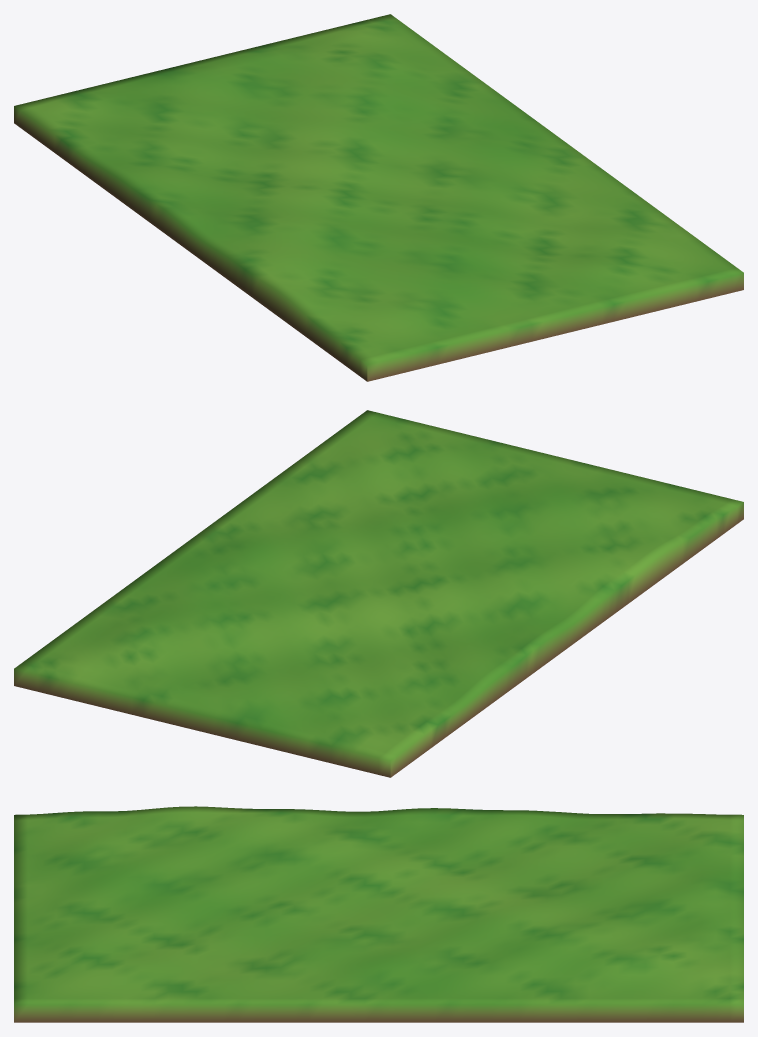
The model's file is ground_tile_b.glb.
3 views of the same model, one above another, from view 1: azimuth 30°, elevation 25°; view 2: azimuth 150°, elevation 25°; view 3: azimuth 270°, elevation 25° (orthographic). The views are drawn at different scales.
Parts seen in each view (by area): view 1: Ground_Tile_B_Surface; view 2: Ground_Tile_B_Surface; view 3: Ground_Tile_B_Surface.
Boxes of the visible parts, x1,y1,x2,y2 form: Ground_Tile_B_Surface: (14, 14, 743, 381); Ground_Tile_B_Surface: (14, 410, 743, 777); Ground_Tile_B_Surface: (14, 806, 743, 1022).
Bounding box in the file's own units: 8 × 0.5626 × 13.
